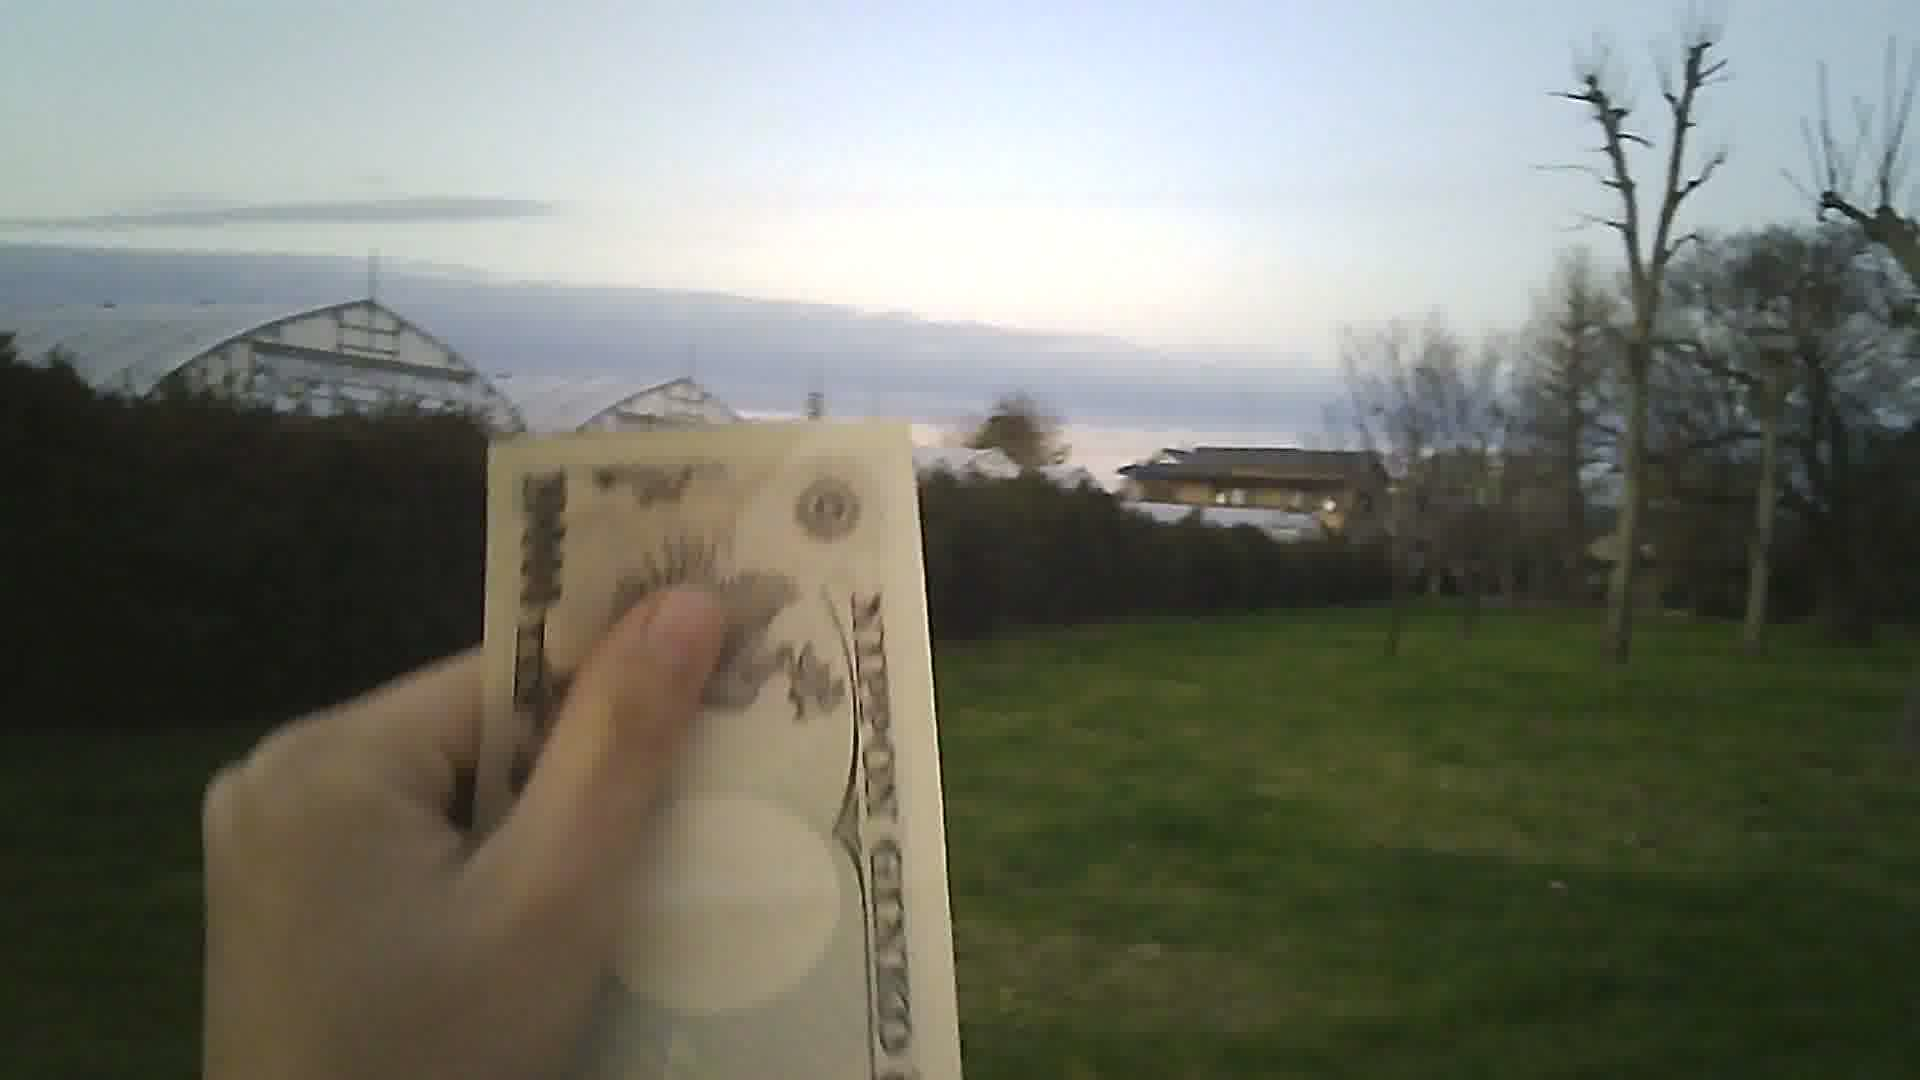10,000 Yen: (435, 419, 1009, 1079)
